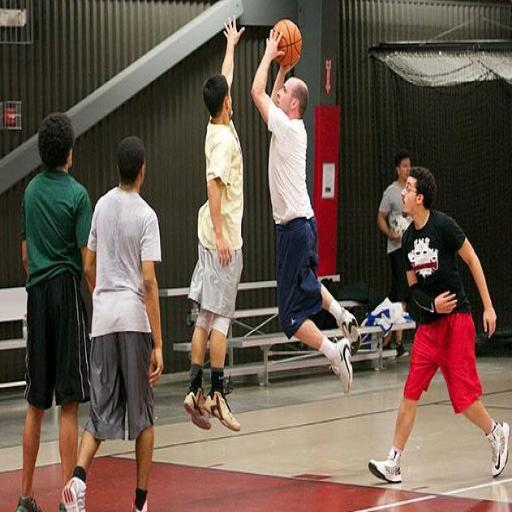person: (369, 167, 509, 482), (251, 30, 360, 392), (61, 136, 163, 511), (17, 114, 91, 511), (184, 20, 244, 431), (377, 149, 411, 310)
